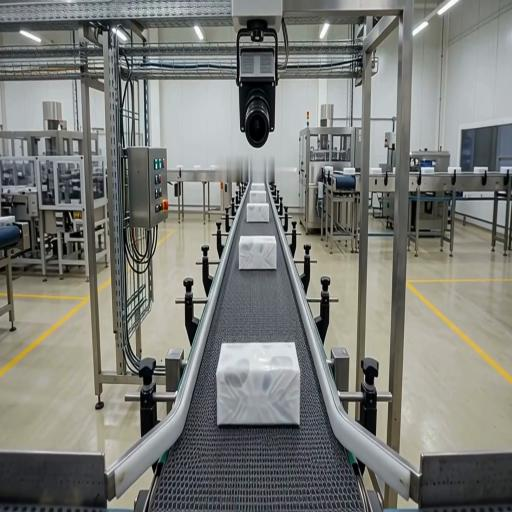good: (216, 341, 300, 426), (238, 235, 278, 271), (246, 202, 270, 224), (248, 190, 267, 204), (250, 182, 265, 190)
